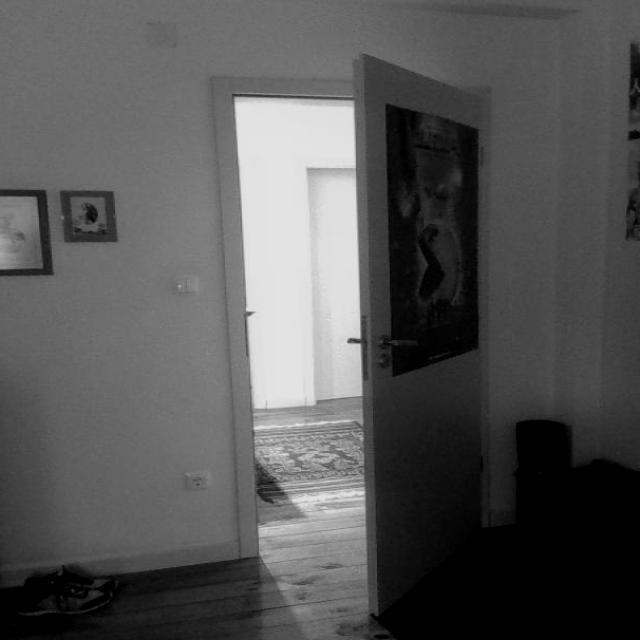door: (352, 52, 489, 618)
